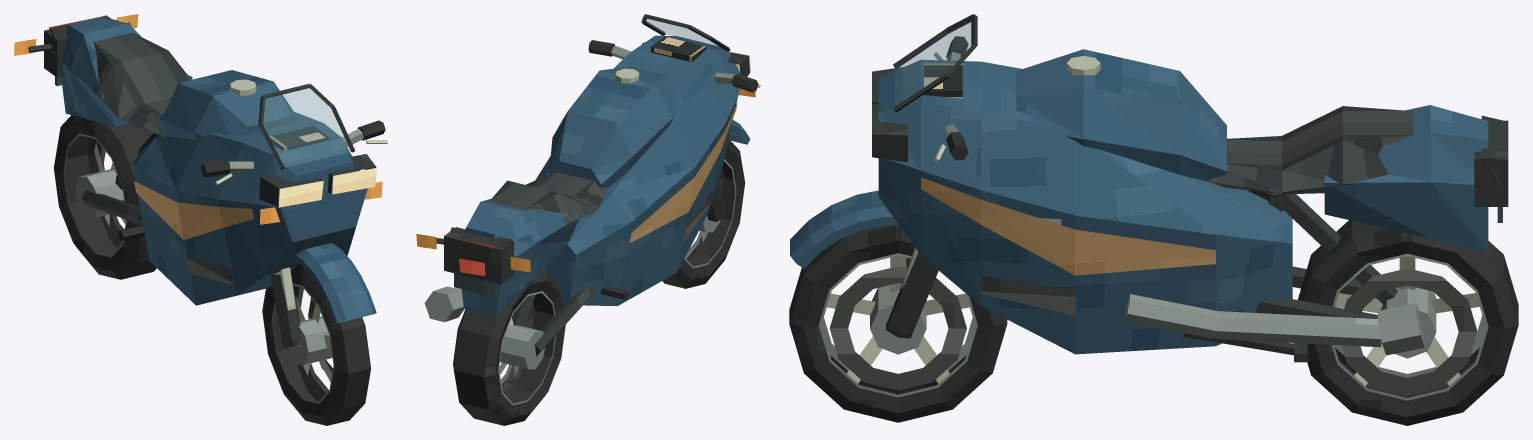
The model's file is kelveran-2005.glb.
3 renders of one model, left to right at view 1: azimuth 30°, elevation 25°; view 2: azimuth 150°, elevation 25°; view 3: azimuth 270°, elevation 25°, orthographic. The views are drawn at different scales.
Visible parts, largest first — view 1: body, Tread, tyre shoulders and inner lips.001, Tread, tyre shoulders and inner lips, Front valanced or bobbed mudguard, Brake drum or axle hub, Brake drum or axle hub.001, Fork lower slider, Pixel instrument faces, Lamp lens, Lamp lens.001, Stove enamel lamp bucket.001, Rim lip.002 (+5 smaller); view 2: body, Tread, tyre shoulders and inner lips.001, Tread, tyre shoulders and inner lips, Brake drum or axle hub.001, Pixel instrument faces, Stove enamel lamp bucket.002, Fork lower slider, Rim lip.002, Lamp lens.003, Ribbed rubber grip, Front valanced or bobbed mudguard, Ribbed rubber grip.001 (+1 smaller); view 3: body, Tread, tyre shoulders and inner lips.001, Tread, tyre shoulders and inner lips, Disc brake rotor.001, Disc brake rotor, Front valanced or bobbed mudguard, Fork lower slider.001, Brake drum or axle hub, Brake drum or axle hub.001, Stove enamel lamp bucket, Rim lip.003, Rim lip.001 (+3 smaller).
Boxes of the visible parts, left/top/right/bottom form: body: left=28, top=15, right=367, bottom=305; Tread, tyre shoulders and inner lips.001: left=54, top=115, right=156, bottom=279; Tread, tyre shoulders and inner lips: left=262, top=263, right=370, bottom=425; Front valanced or bobbed mudguard: left=293, top=243, right=376, bottom=323; Brake drum or axle hub: left=288, top=316, right=332, bottom=364; Brake drum or axle hub.001: left=75, top=169, right=124, bottom=218; Fork lower slider: left=270, top=271, right=301, bottom=347; Pixel instrument faces: left=269, top=126, right=328, bottom=150; Lamp lens: left=332, top=167, right=377, bottom=194; Lamp lens.001: left=278, top=180, right=323, bottom=207; Stove enamel lamp bucket.001: left=259, top=174, right=322, bottom=206; Rim lip.002: left=63, top=133, right=127, bottom=257; body: left=424, top=14, right=740, bottom=356; Tread, tyre shoulders and inner lips.001: left=453, top=269, right=565, bottom=425; Tread, tyre shoulders and inner lips: left=662, top=139, right=745, bottom=288; Brake drum or axle hub.001: left=500, top=325, right=545, bottom=369; Pixel instrument faces: left=651, top=36, right=706, bottom=62; Stove enamel lamp bucket.002: left=448, top=227, right=512, bottom=255; Fork lower slider: left=707, top=180, right=725, bottom=221; Rim lip.002: left=498, top=291, right=555, bottom=405; Lamp lens.003: left=459, top=258, right=485, bottom=276; Ribbed rubber grip: left=731, top=74, right=758, bottom=92; Front valanced or bobbed mudguard: left=729, top=120, right=750, bottom=144; Ribbed rubber grip.001: left=588, top=40, right=614, bottom=56; body: left=878, top=14, right=1508, bottom=355; Tread, tyre shoulders and inner lips.001: left=1298, top=220, right=1518, bottom=425; Tread, tyre shoulders and inner lips: left=789, top=225, right=1007, bottom=422; Disc brake rotor.001: left=1341, top=268, right=1477, bottom=394; Disc brake rotor: left=829, top=266, right=966, bottom=390; Front valanced or bobbed mudguard: left=790, top=190, right=898, bottom=268; Fork lower slider.001: left=886, top=252, right=938, bottom=338; Brake drum or axle hub: left=870, top=285, right=926, bottom=354; Brake drum or axle hub.001: left=1380, top=287, right=1436, bottom=358; Stove enamel lamp bucket: left=872, top=103, right=907, bottom=162; Rim lip.003: left=1331, top=253, right=1488, bottom=400; Rim lip.001: left=818, top=253, right=977, bottom=397.
Bounding box in the file's own units: 0.7251 × 1.18 × 2.02.
6 materials, 6 textured.
